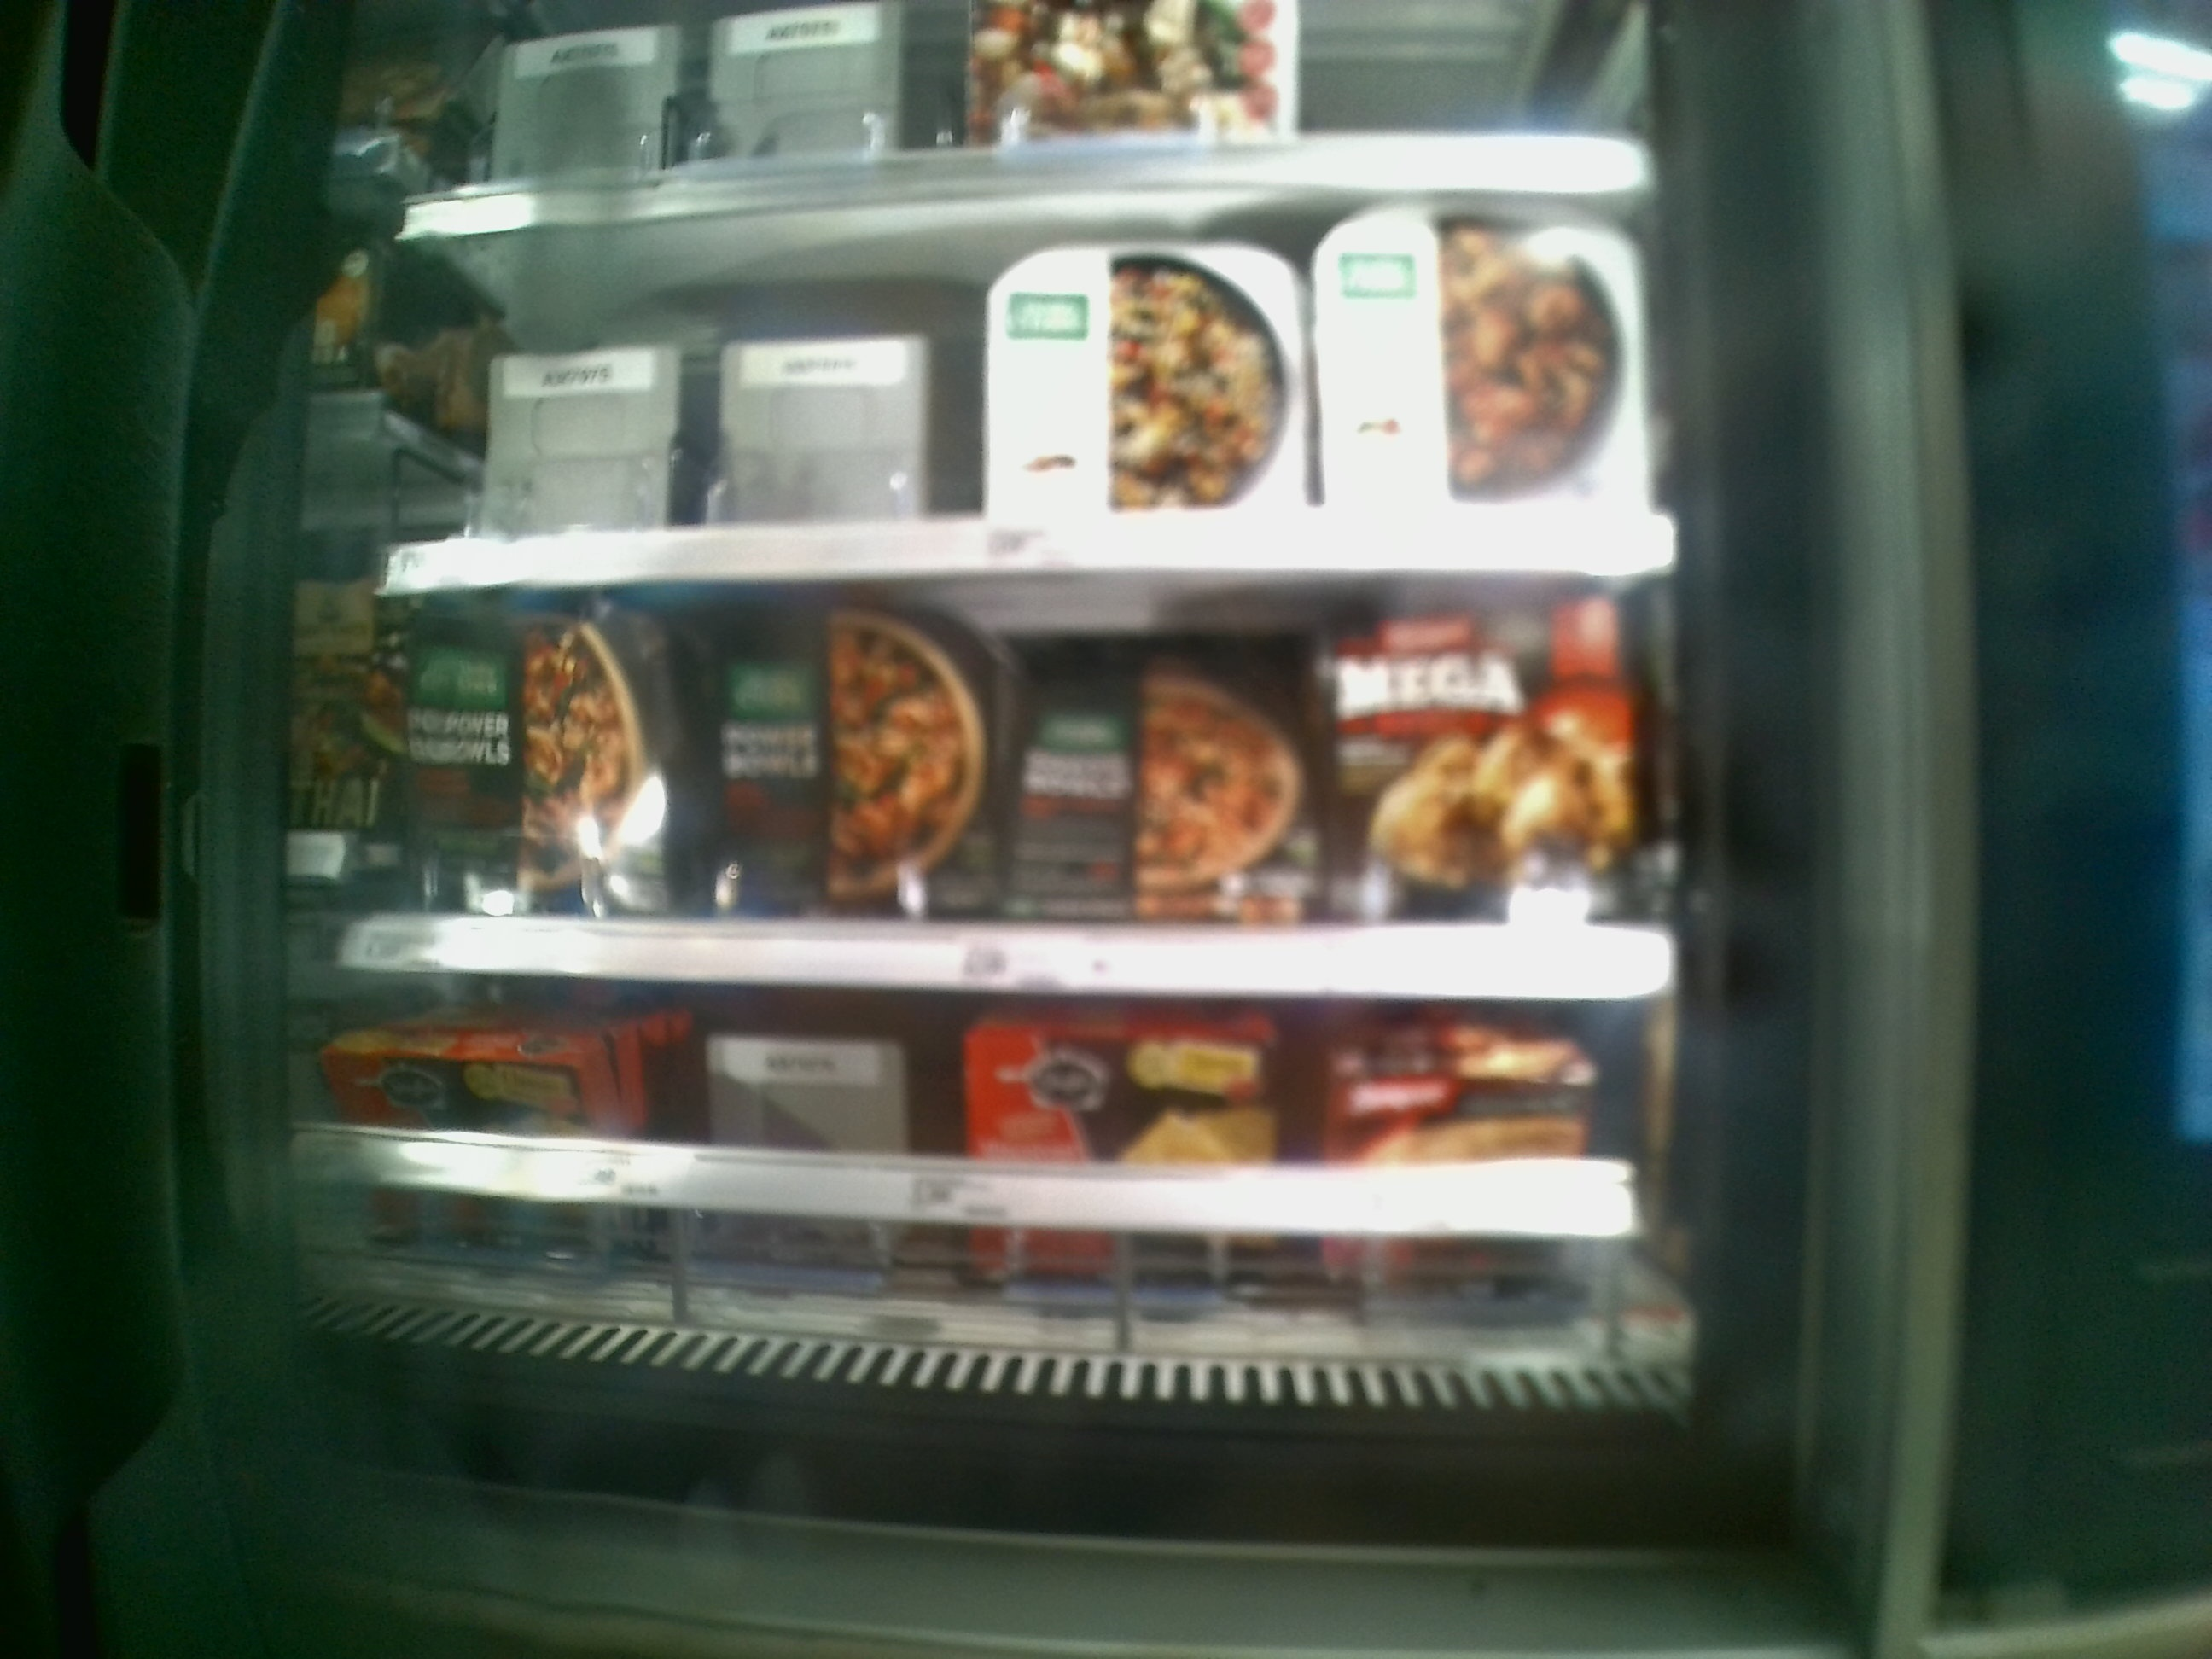shelf: (307, 967, 1681, 1384), (361, 582, 1679, 1000), (374, 186, 1663, 582)
